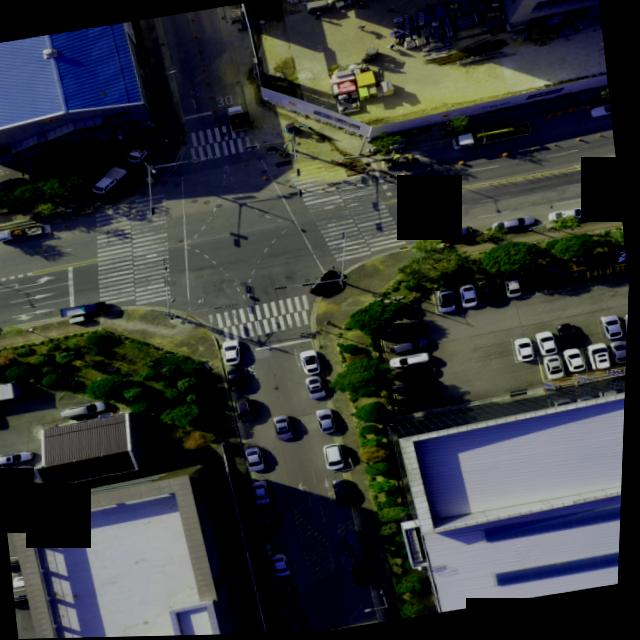car: (312, 268, 345, 298), (401, 390, 449, 409), (59, 402, 105, 421), (393, 379, 439, 397), (556, 322, 584, 351), (347, 531, 372, 563), (492, 216, 537, 233), (221, 337, 246, 367), (386, 325, 429, 342), (537, 332, 563, 360), (226, 365, 252, 393), (589, 344, 613, 374), (391, 353, 432, 370), (288, 611, 315, 635), (0, 175, 32, 195), (550, 208, 592, 223), (514, 339, 538, 365), (357, 560, 379, 588), (564, 349, 588, 374), (604, 317, 627, 343), (325, 445, 348, 471), (400, 366, 437, 382), (262, 512, 283, 540), (334, 479, 355, 507), (275, 416, 297, 442), (247, 447, 268, 474), (395, 337, 430, 353), (302, 350, 324, 375), (317, 408, 338, 434), (254, 480, 275, 506), (308, 376, 329, 402), (437, 290, 459, 314), (276, 553, 297, 578), (2, 450, 37, 465), (547, 358, 568, 382), (483, 281, 504, 305), (461, 285, 481, 309), (271, 555, 291, 578), (588, 104, 613, 122), (276, 581, 296, 603), (6, 479, 35, 494), (4, 464, 35, 478), (238, 396, 255, 421), (613, 344, 630, 366), (506, 280, 524, 299), (626, 317, 630, 339)
medium_truck: (453, 121, 532, 151)
small_truck: (0, 219, 60, 245), (124, 133, 166, 162), (94, 162, 132, 193), (63, 300, 114, 318), (429, 226, 478, 244), (228, 107, 251, 134)
